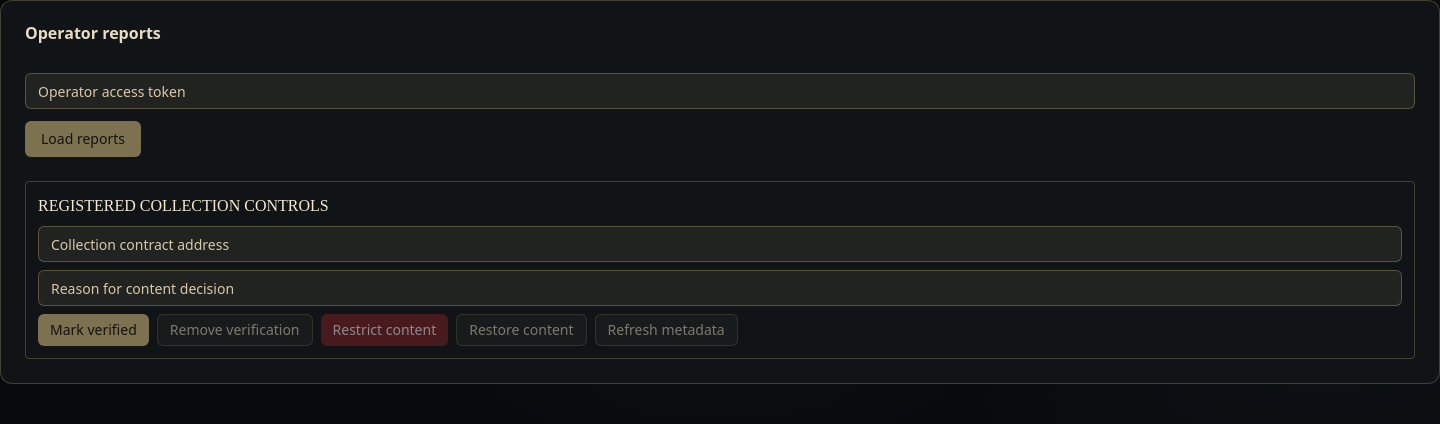
Test case: sends credentials only on an explicit operator request and renders errors
The image size is (1440, 424).
Type "test-secret" into the password field labelled "Operator access token".
click(720, 91); type("test-secret")  # box [25,73,1415,109]
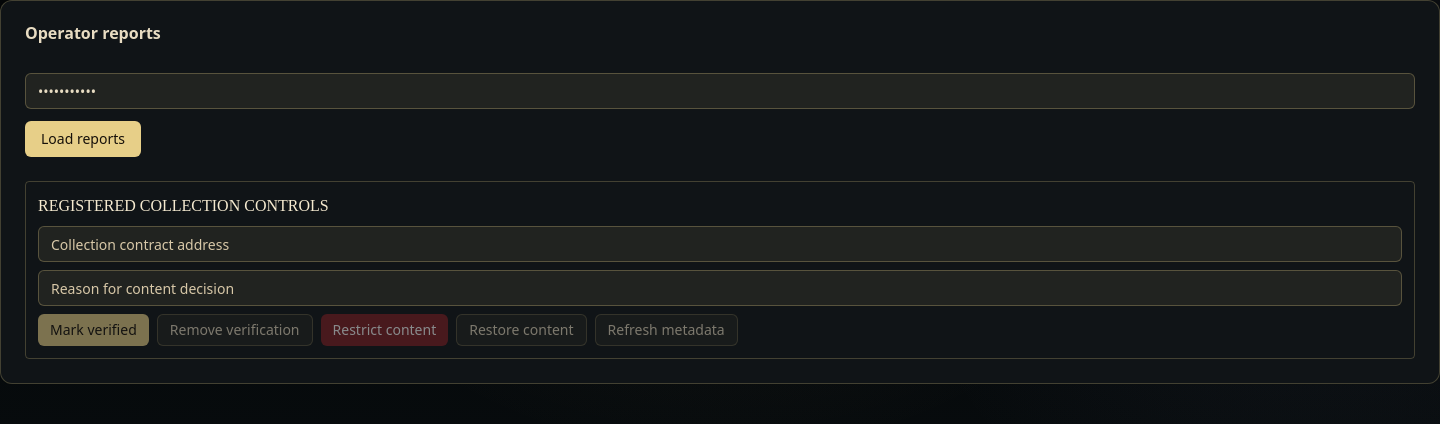
Click the button "Load reports".
click(83, 139)  # box [25,121,141,157]
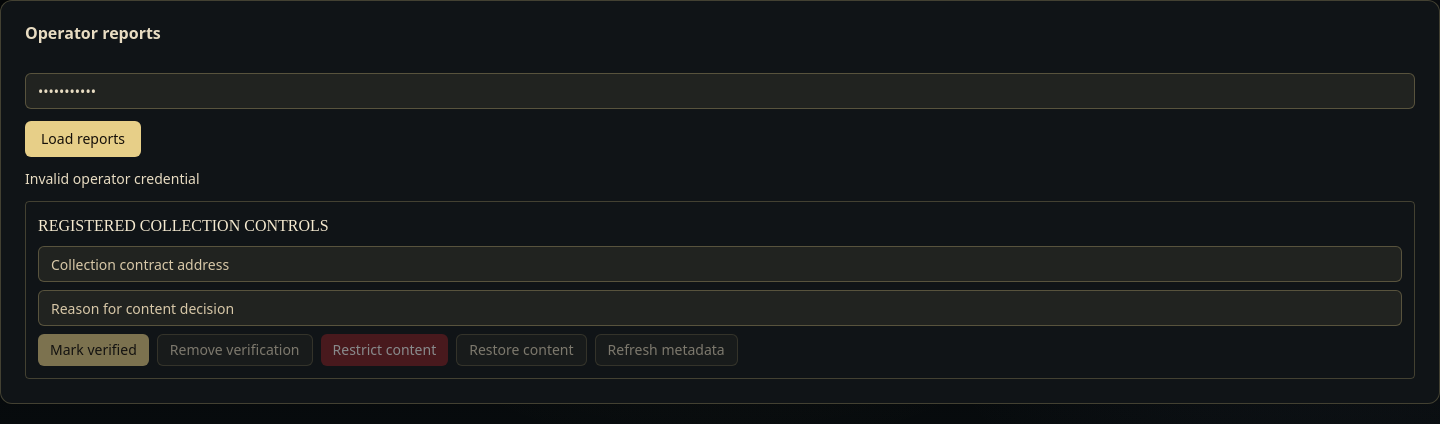
Expected: the text "Invalid operator credential" is shown, [25,169,200,188]
